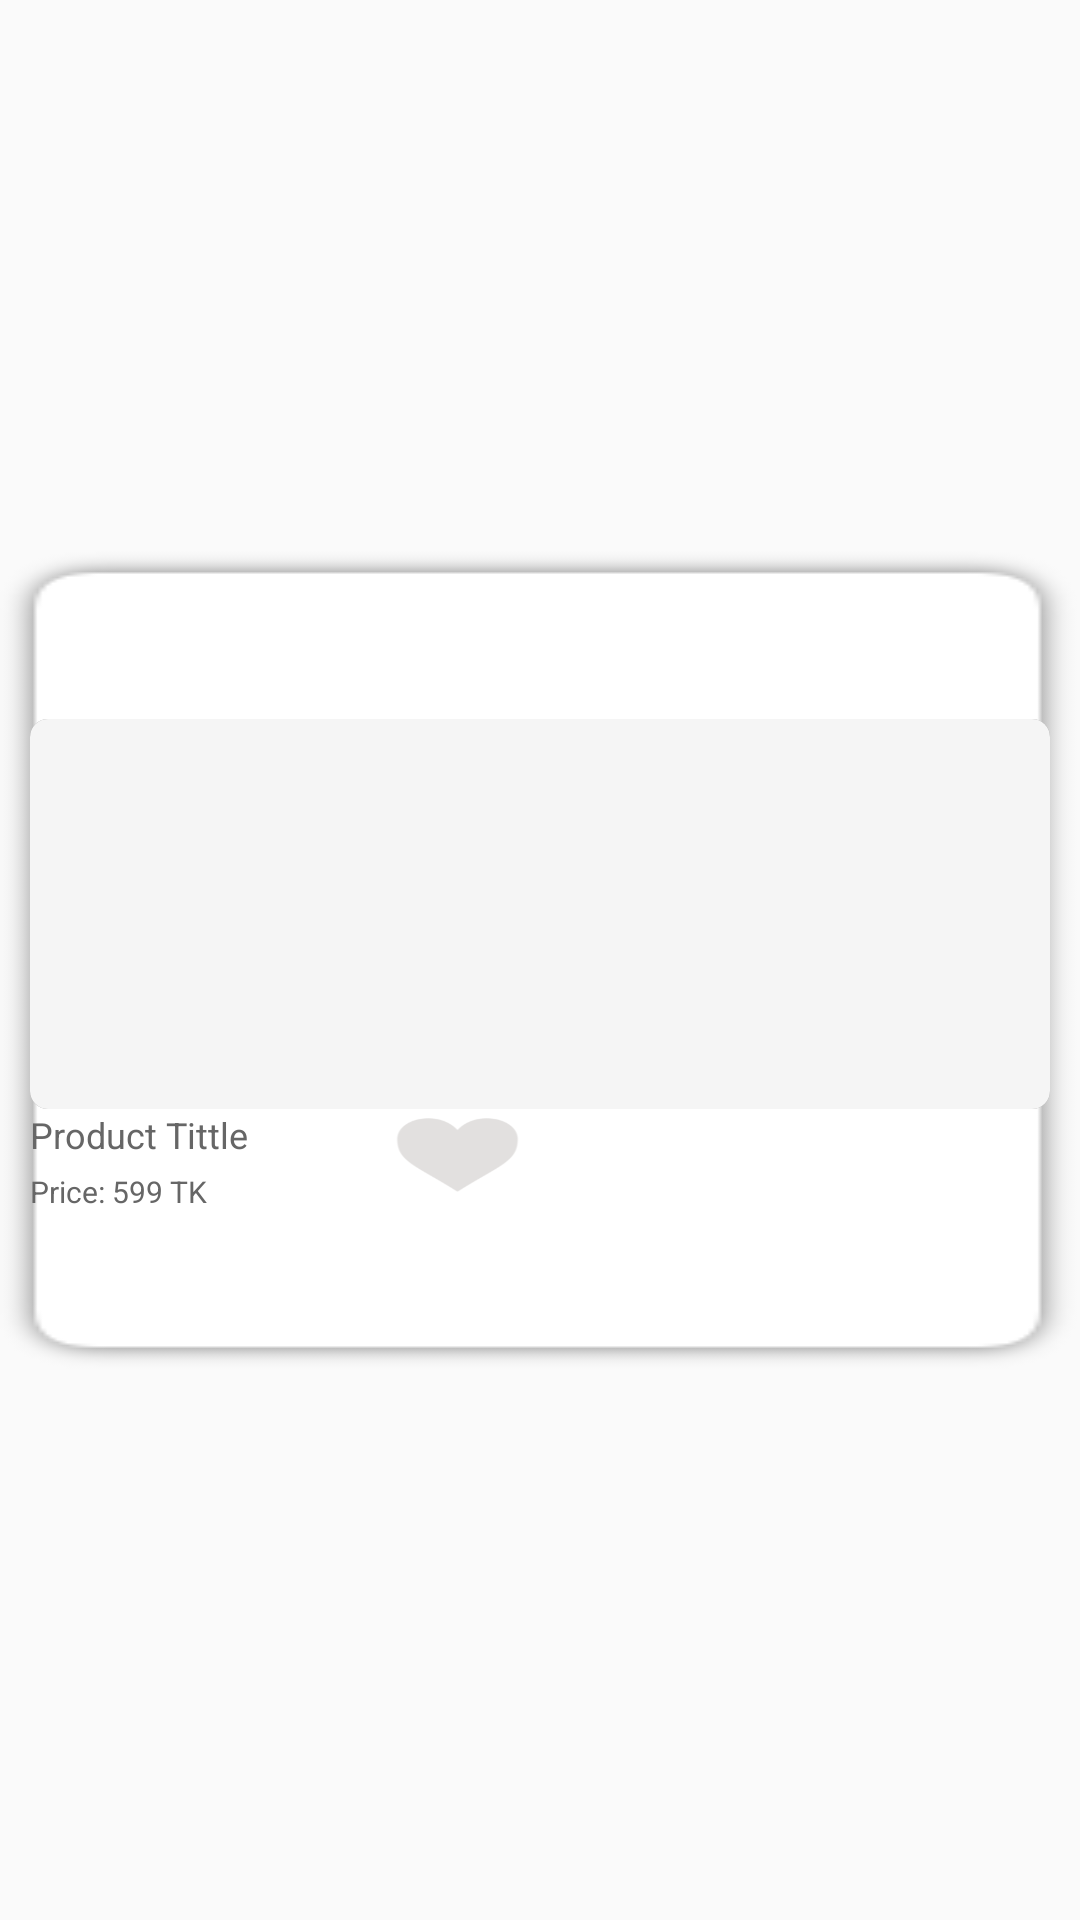

Screen size 1080x1920. Icon name, then its center in pixels as [x,y]:
love: [457,1155]
